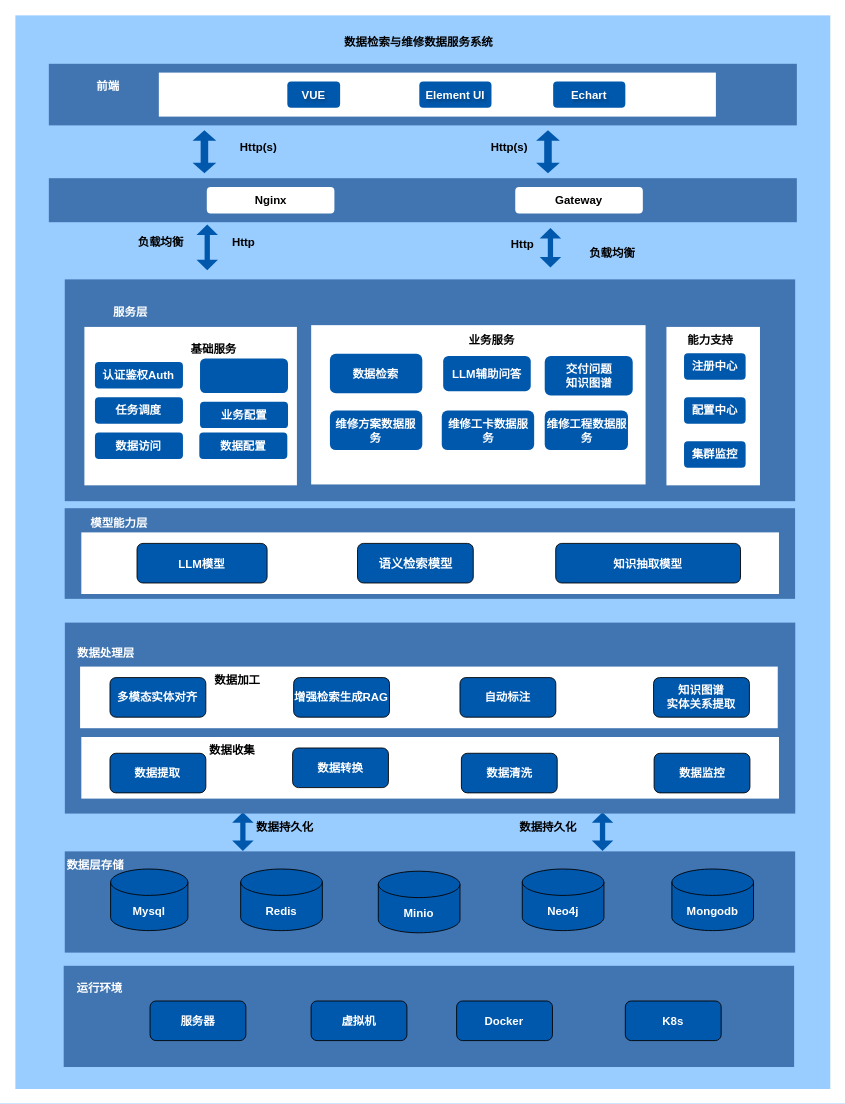
This 845x1104 diagram has some shape labels left out. The shapes that lost their labels are listed below. From the top down, each one's box as (x1, y1, x2, y2) in pixels, then its label:
(48, 178, 796, 222): 网管层
(200, 358, 288, 392): 系统管理
